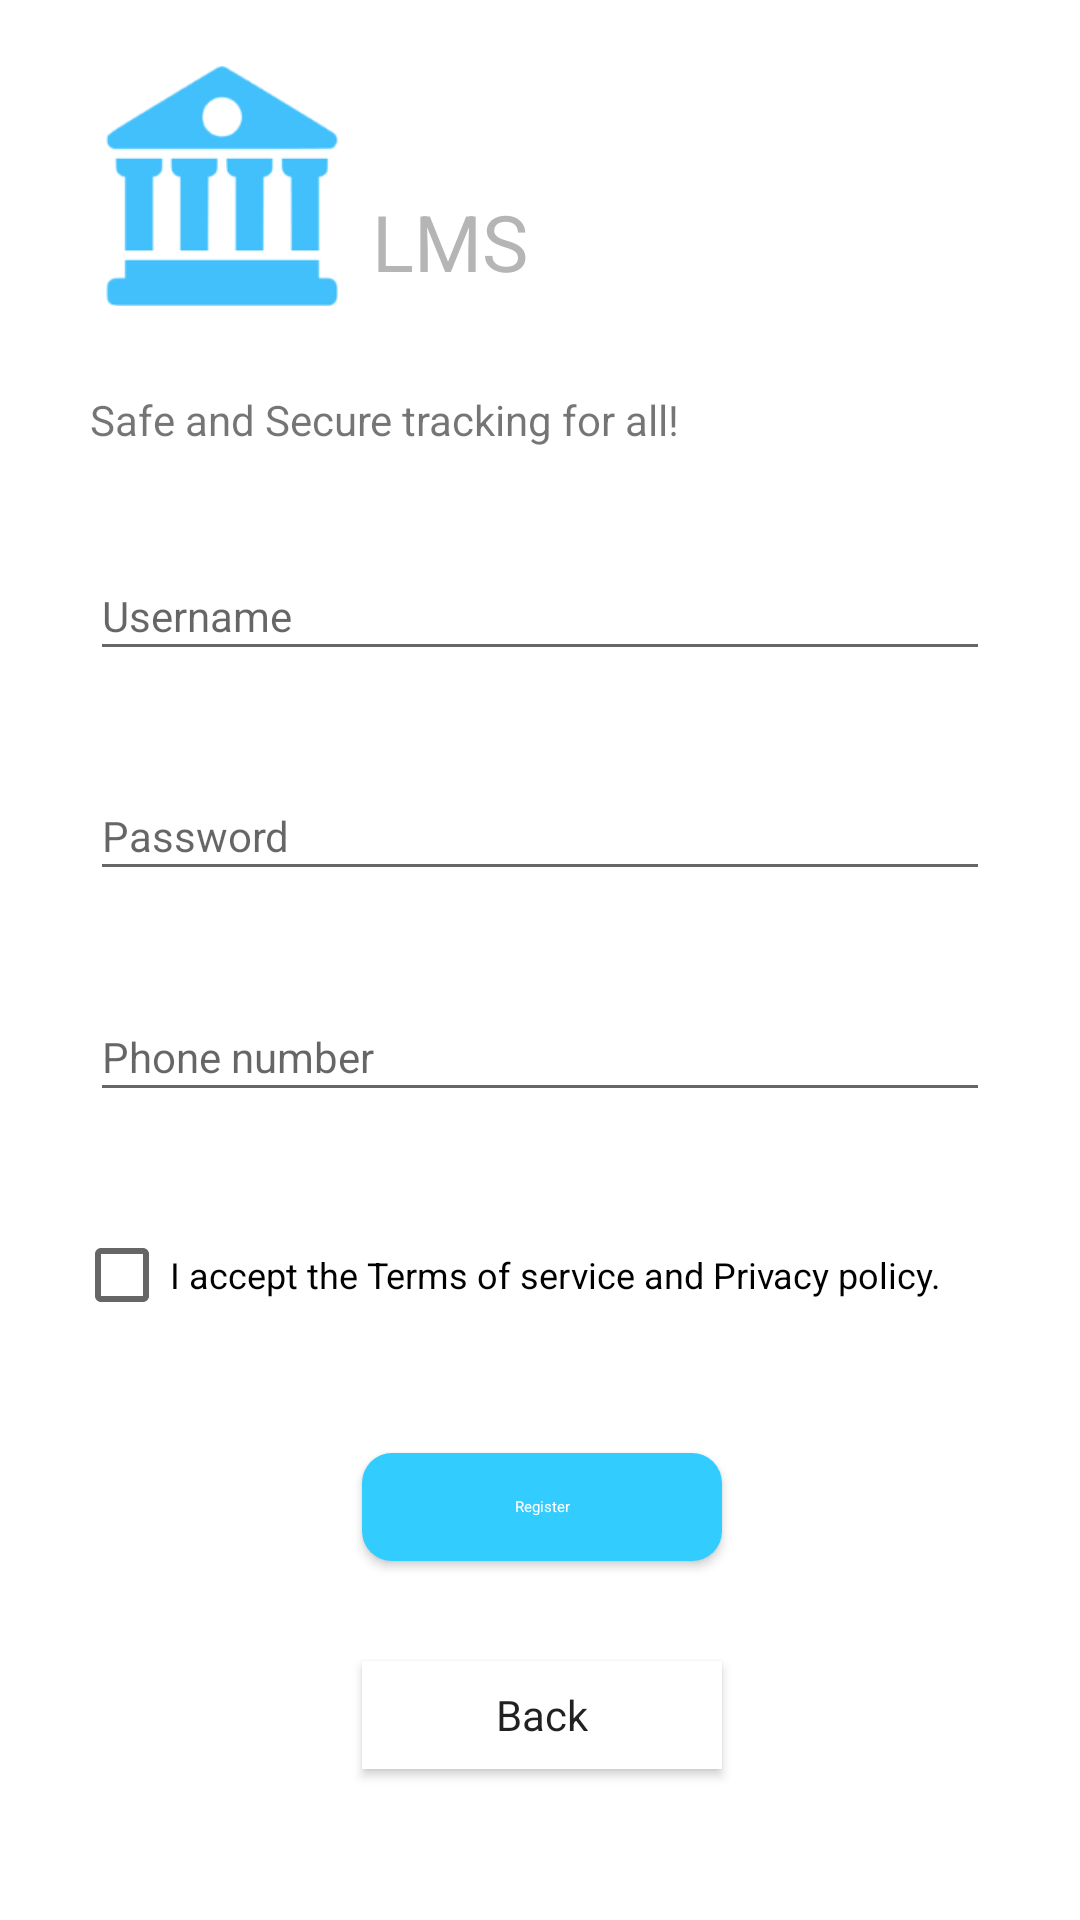

Where to tap for icons on this 1080px x 1920px app screen, as [x,y]:
appicon: [222,186]
